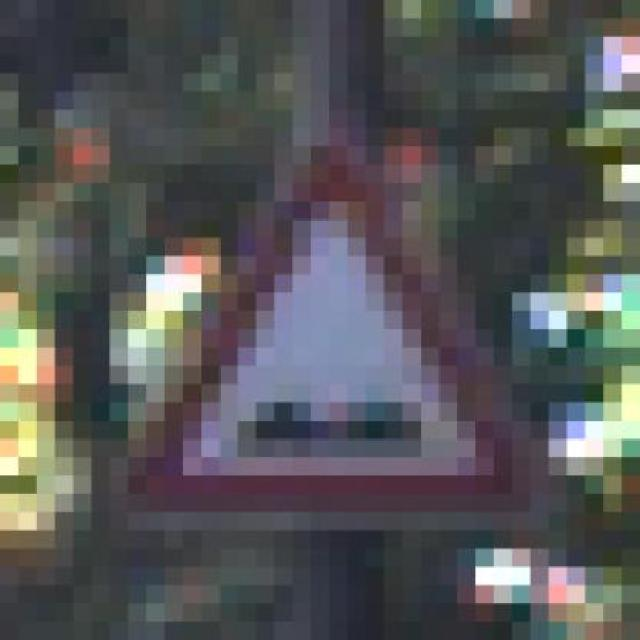Uneven Road: (73, 128, 549, 530)
